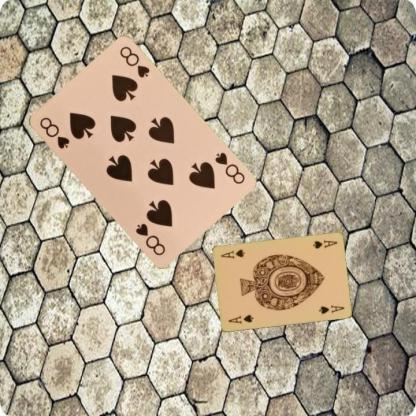8s: (36, 114, 70, 150), (212, 149, 245, 186)
As: (225, 312, 254, 326), (310, 238, 339, 250)
